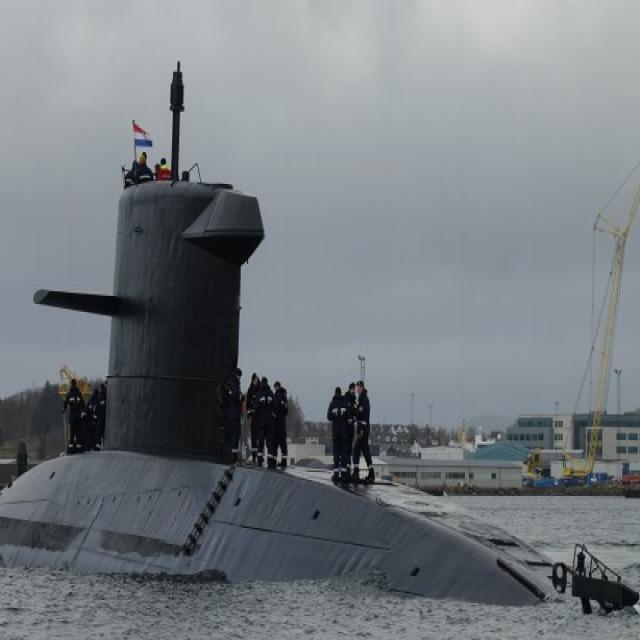submarine: (1, 177, 596, 609)
